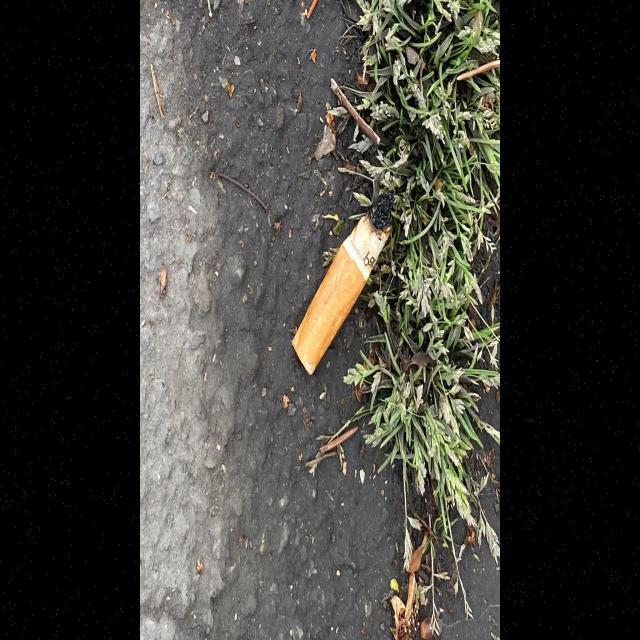other waste: (291, 188, 397, 378)
